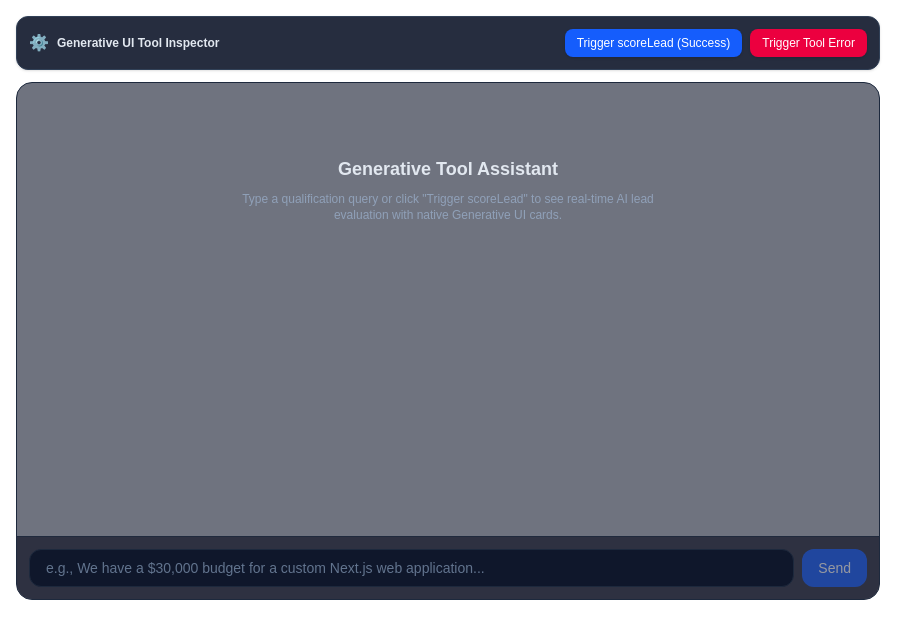
Scenario: Component Testing Suite (UI & Tool Lifecycle) › enables send button upon typing in the input field
Type "We have a $20,000 project" into the field at (412, 568), box [29, 549, 794, 587]
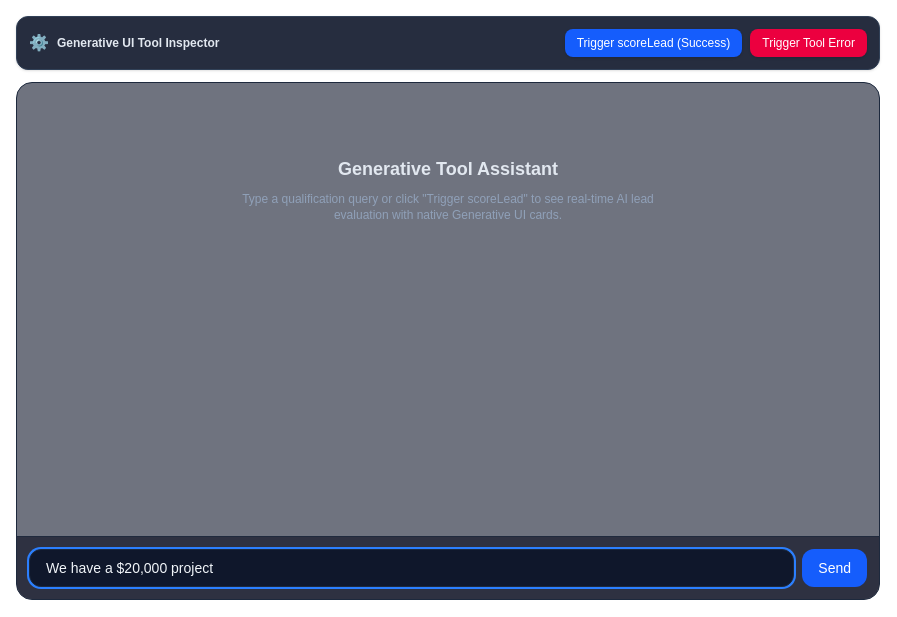
Now the button "Send" is enabled, box [802, 549, 867, 587]
